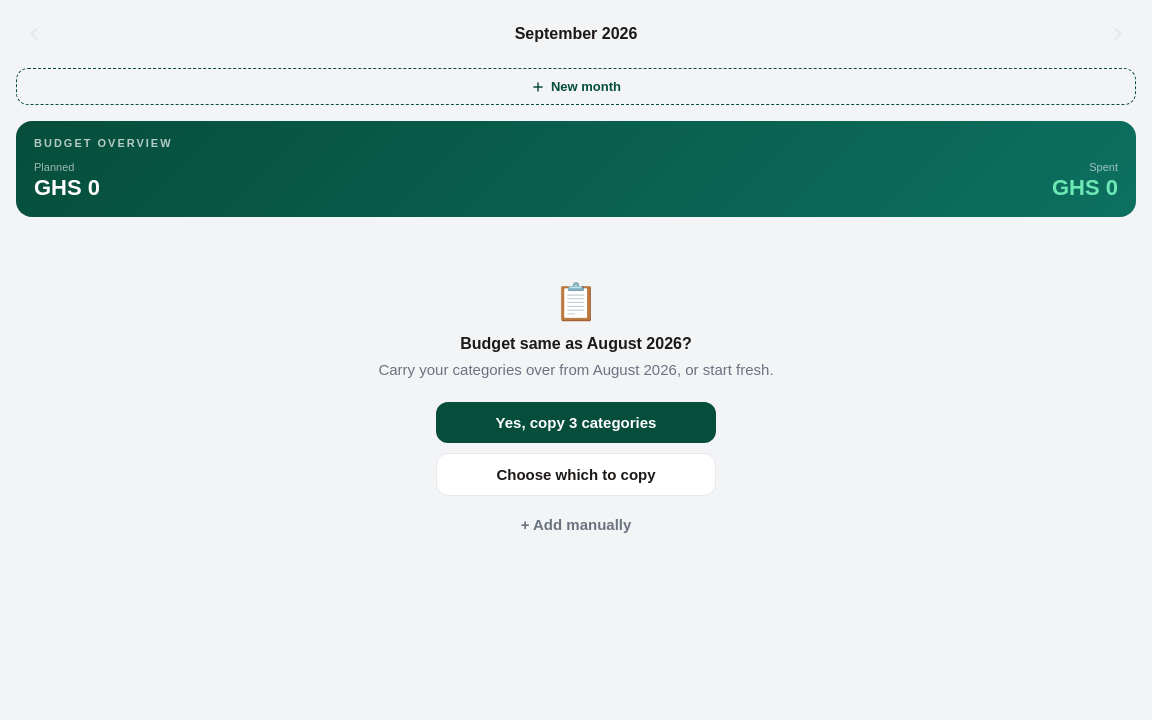
Test case: BudgetView › tapping "Choose which to copy" opens the multi-select sheet
Click the button with test id "choose-which-categories-btn": (576, 474) [436,452,716,496]
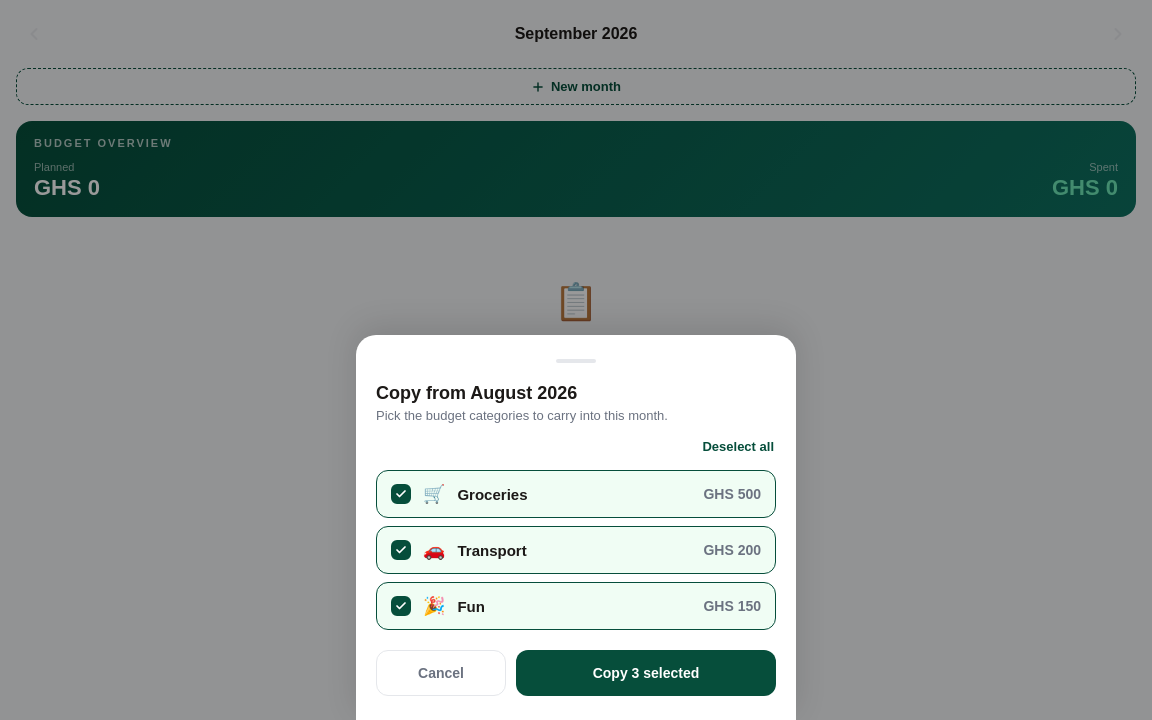
Expected: the dialog with test id "copy-categories-sheet" is shown, [356,335,796,719]
